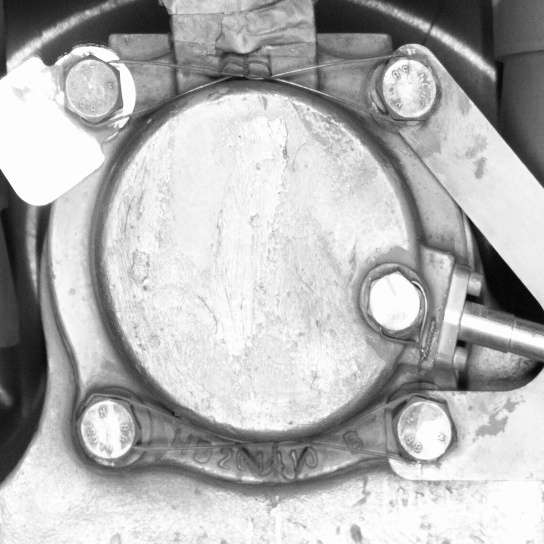IronWire: (51, 44, 448, 131), (70, 388, 464, 470)
Screw: (52, 45, 132, 132), (381, 387, 462, 467), (368, 47, 447, 129), (69, 390, 145, 471), (357, 260, 431, 342)
